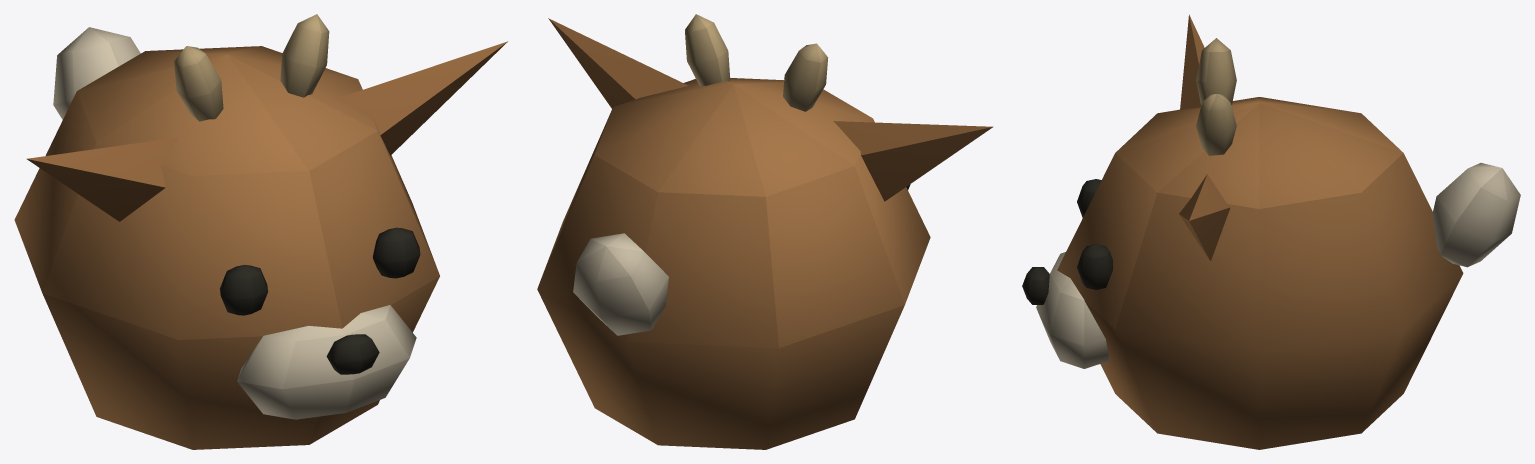
Rendered from Deer.glb.
3 renders of one model, left to right at view 1: azimuth 30°, elevation 25°; view 2: azimuth 150°, elevation 25°; view 3: azimuth 270°, elevation 25°, orthographic. The views are drawn at different scales.
Visible parts, largest first — view 1: Hunt_Deer; view 2: Hunt_Deer; view 3: Hunt_Deer.
Boxes of the visible parts, left/top/right/bottom form: Hunt_Deer: left=14, top=14, right=507, bottom=449; Hunt_Deer: left=537, top=14, right=993, bottom=449; Hunt_Deer: left=1022, top=14, right=1520, bottom=449.
Bounding box in the file's own units: 0.4561 × 0.3882 × 0.4645.
